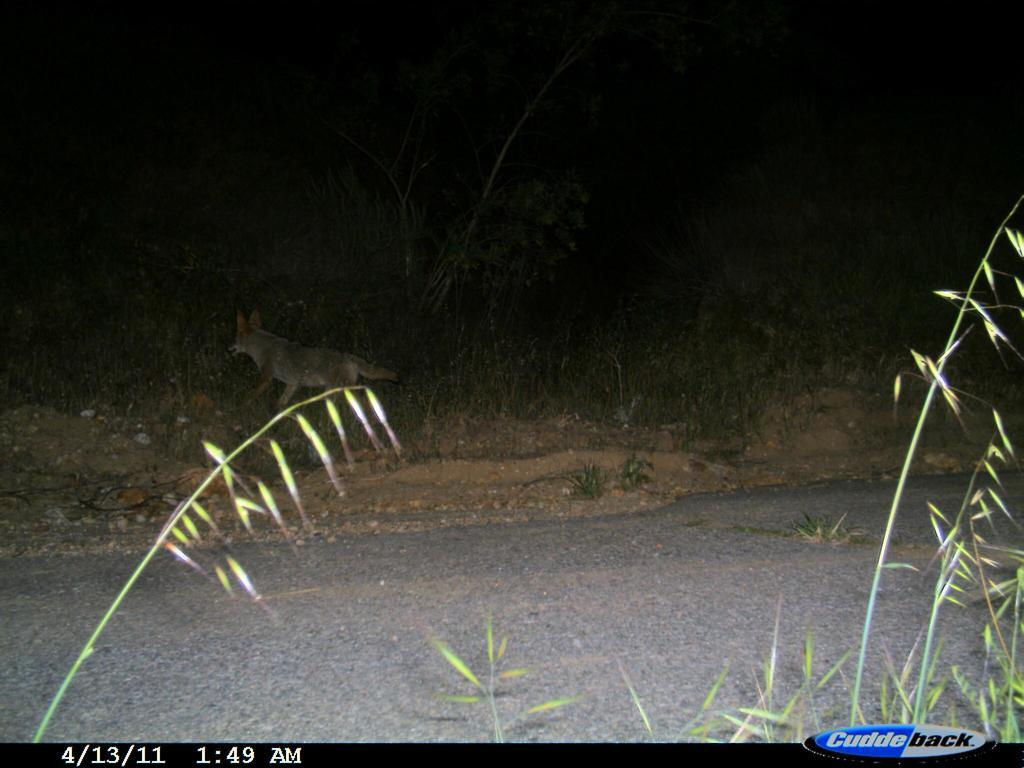coyote: (208, 302, 405, 431)
